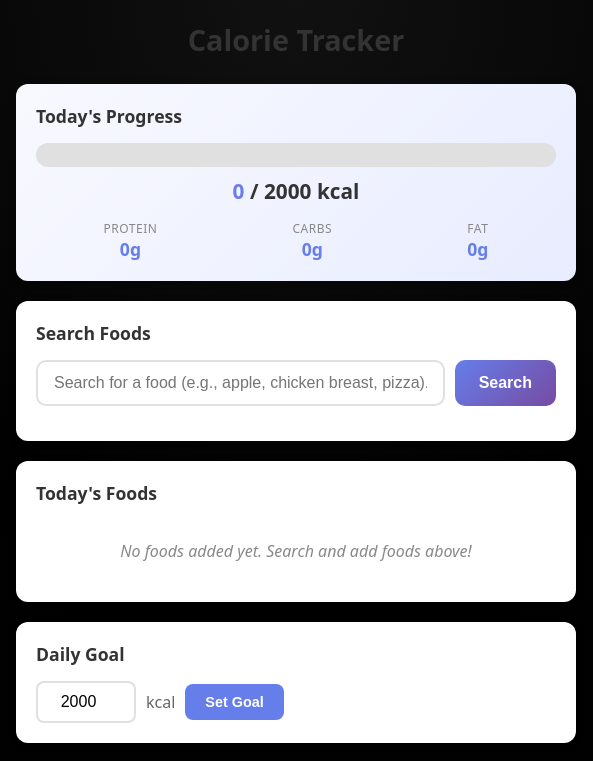
Test case: CaloriesScreen › Adding Foods › updates calorie total when food is added
In the field with placeholder "Search for a food (e.g., apple, chicken breast, pizza)...": (240, 383) [36, 360, 445, 406], type "apple"
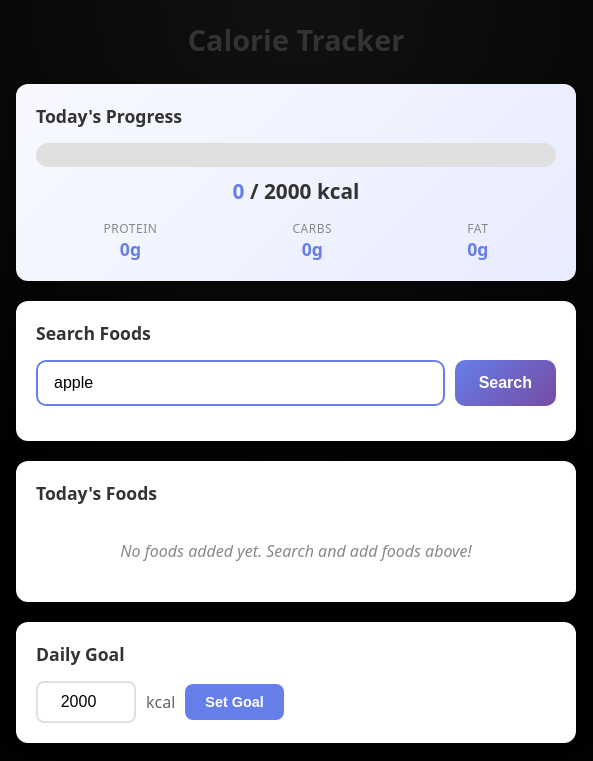
Click the button "Search": (505, 383) [455, 360, 556, 406]
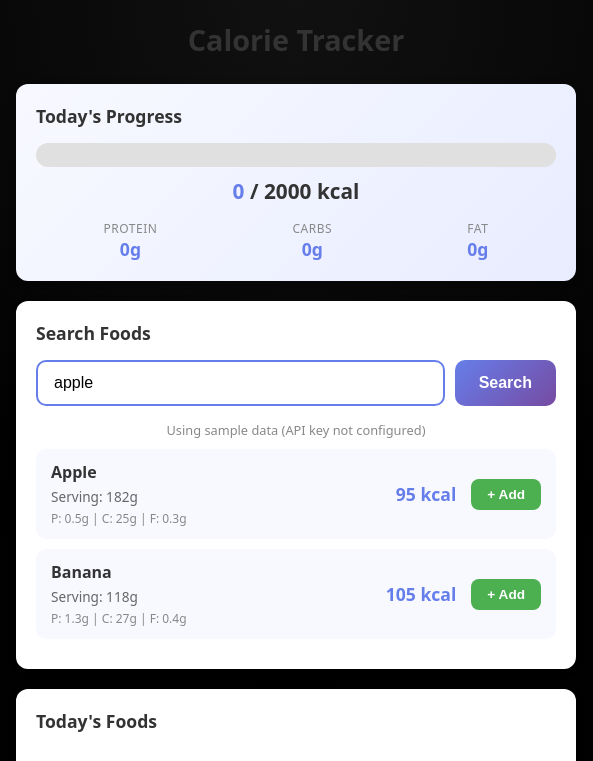
Expected: the text "apple" is shown, [51, 461, 97, 483]
Click the button "+ Add" in the row of "95": (506, 494) [471, 478, 541, 510]
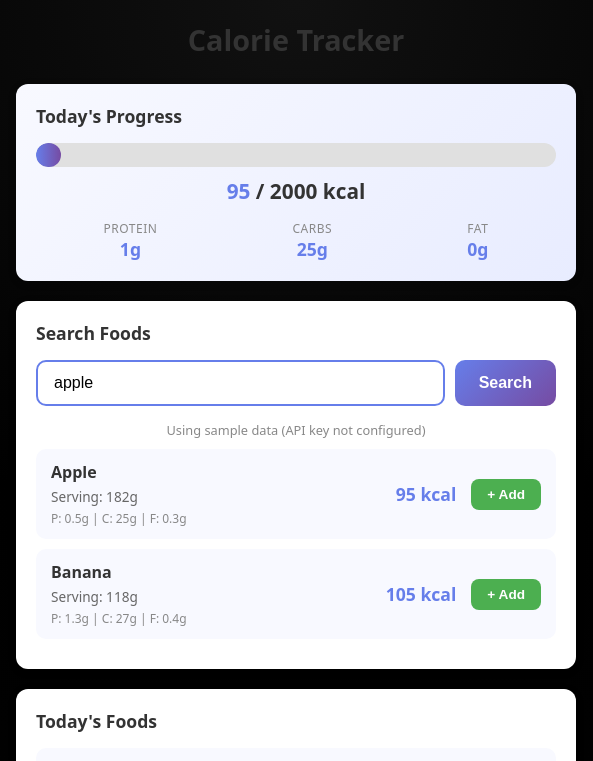
Expected: the text "95" is shown, [227, 177, 250, 205]
